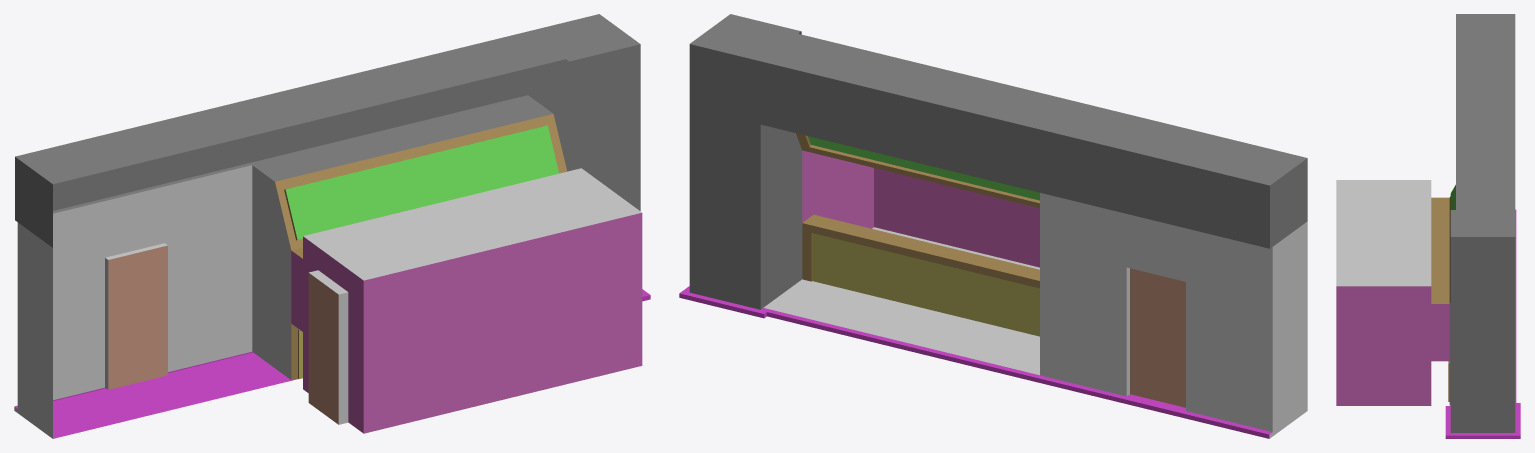
Rendered from CommerceFacadeB.fbx.
3 renders of one model, left to right at view 1: azimuth 30°, elevation 25°; view 2: azimuth 150°, elevation 25°; view 3: azimuth 270°, elevation 25°, orthographic. The views are drawn at different scales.
Visible parts, largest first — view 1: Cube; view 2: Cube; view 3: Cube.
Part boxes in pixels (x1,y1,x2,y2): Cube: [14, 14, 650, 438]; Cube: [679, 14, 1307, 438]; Cube: [1336, 14, 1520, 438].
Bounding box in the file's own units: 972 × 400 × 335.
